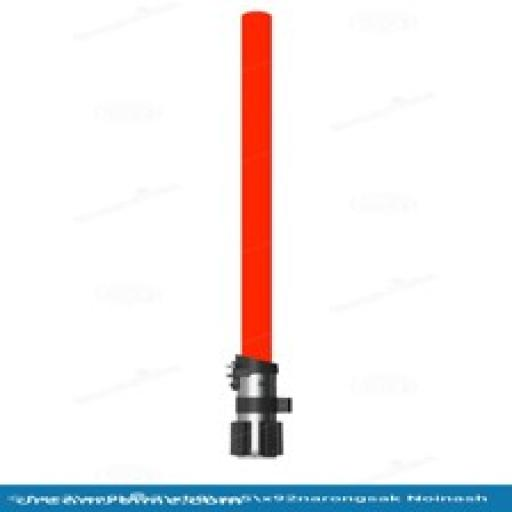lightsaber: (223, 4, 297, 458)
